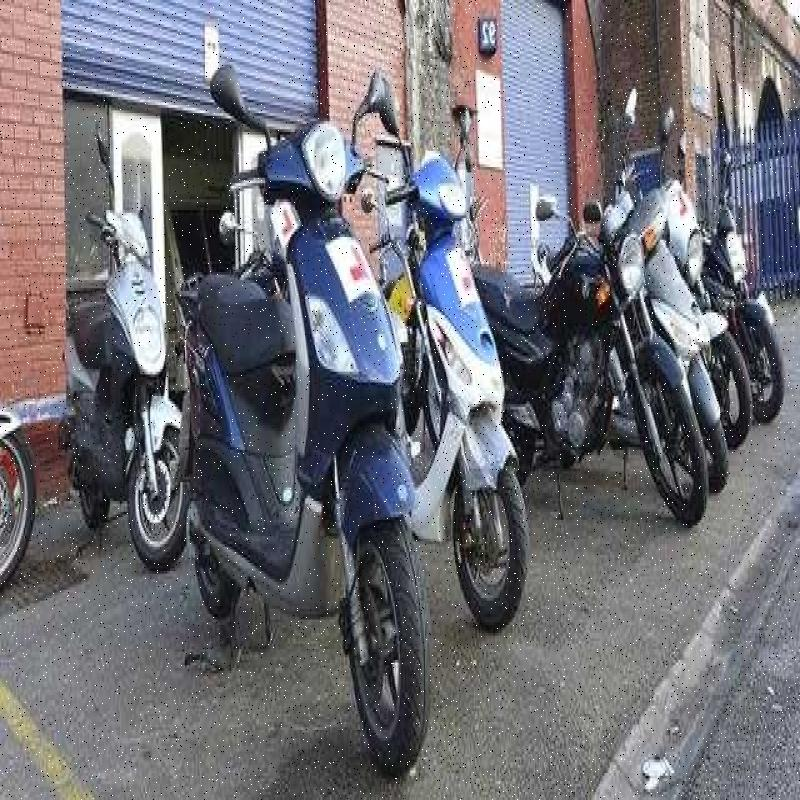bike: (178, 58, 413, 728), (476, 112, 677, 507), (401, 90, 522, 603), (66, 166, 171, 568)
